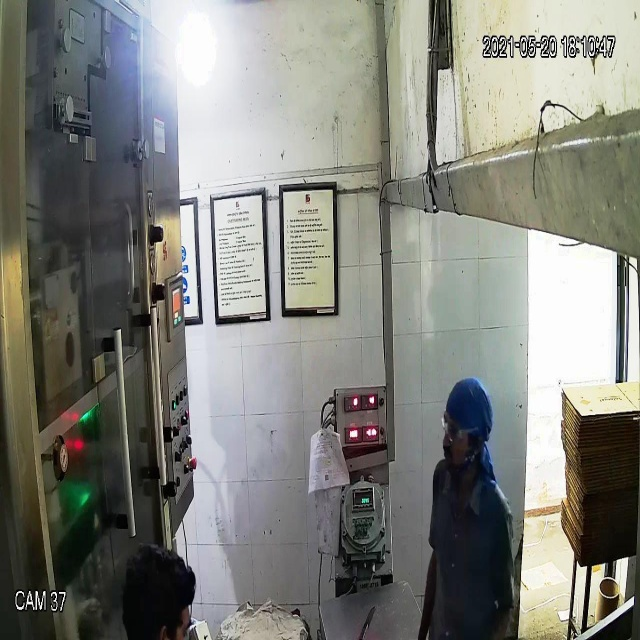Gafas: (437, 409, 481, 444)
